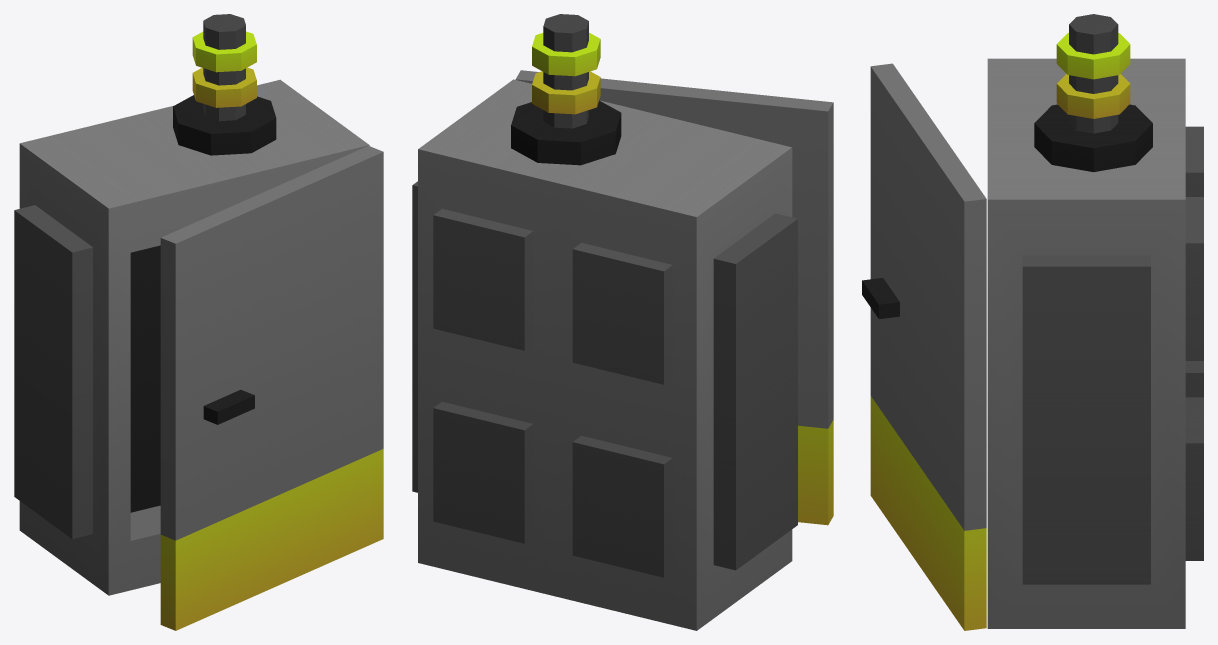
The model's file is Transformer Box.obj.
The picture shows the model from 3 angles, left to right: view 1: azimuth 30°, elevation 25°; view 2: azimuth 150°, elevation 25°; view 3: azimuth 270°, elevation 25°; orthographic projection. The views are drawn at different scales.
Visible parts, largest first — view 1: Cube.002_Cube.003, Cube_Cube.002, Cylinder; view 2: Cube_Cube.002, Cube.002_Cube.003, Cylinder; view 3: Cube_Cube.002, Cube.002_Cube.003, Cylinder.
Boxes of the visible parts, x1=… form: Cube.002_Cube.003: x1=160, y1=145, x2=383, y2=630; Cube_Cube.002: x1=14, y1=79, x2=369, y2=595; Cylinder: x1=173, y1=14, x2=276, y2=155; Cube_Cube.002: x1=412, y1=79, x2=797, y2=630; Cube.002_Cube.003: x1=515, y1=70, x2=833, y2=525; Cylinder: x1=511, y1=14, x2=621, y2=165; Cube_Cube.002: x1=987, y1=58, x2=1203, y2=628; Cube.002_Cube.003: x1=862, y1=63, x2=986, y2=630; Cylinder: x1=1034, y1=14, x2=1152, y2=172.
Size of the model in its own units: 1.01 by 1.59 by 0.8941.
